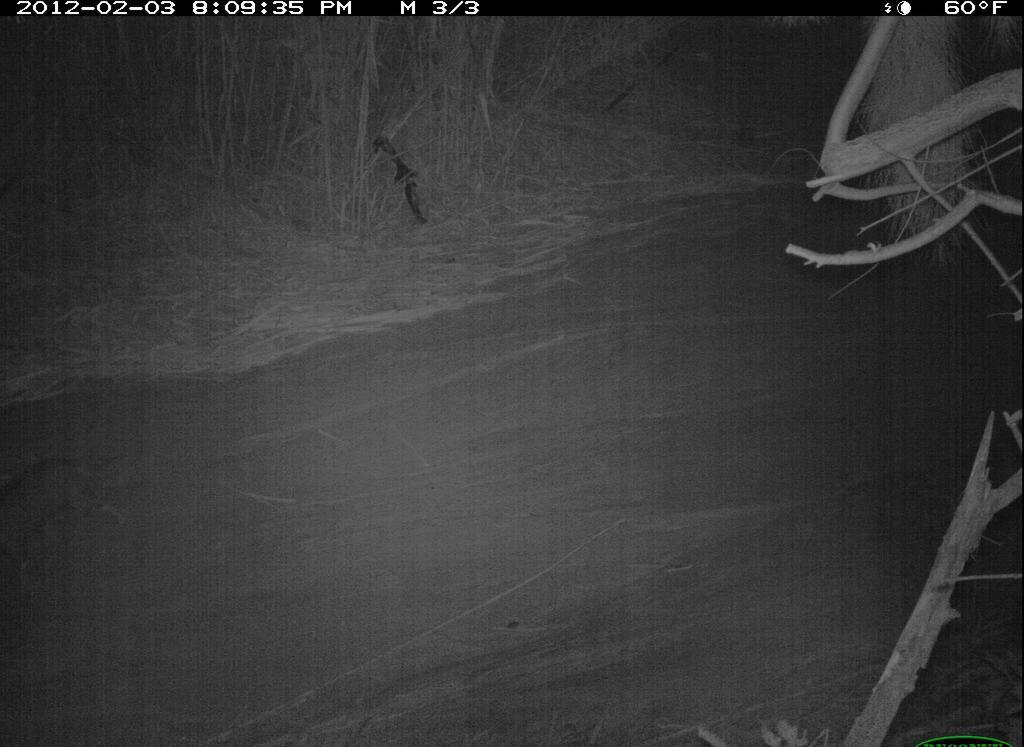coyote: (30, 428, 191, 594)
